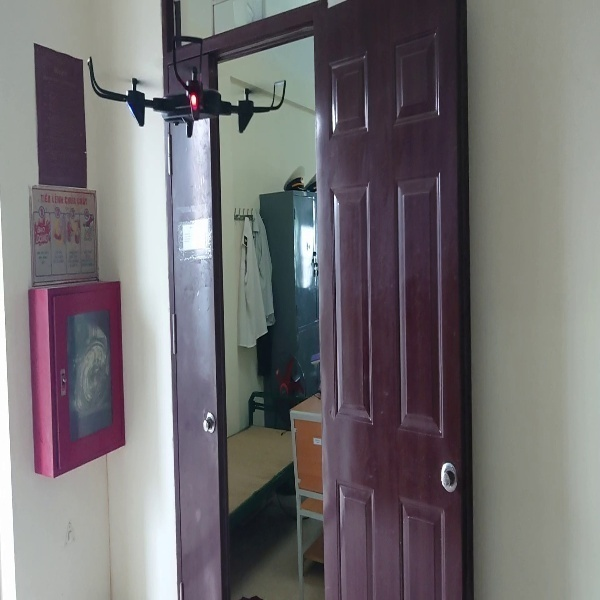drone: (84, 37, 288, 132)
